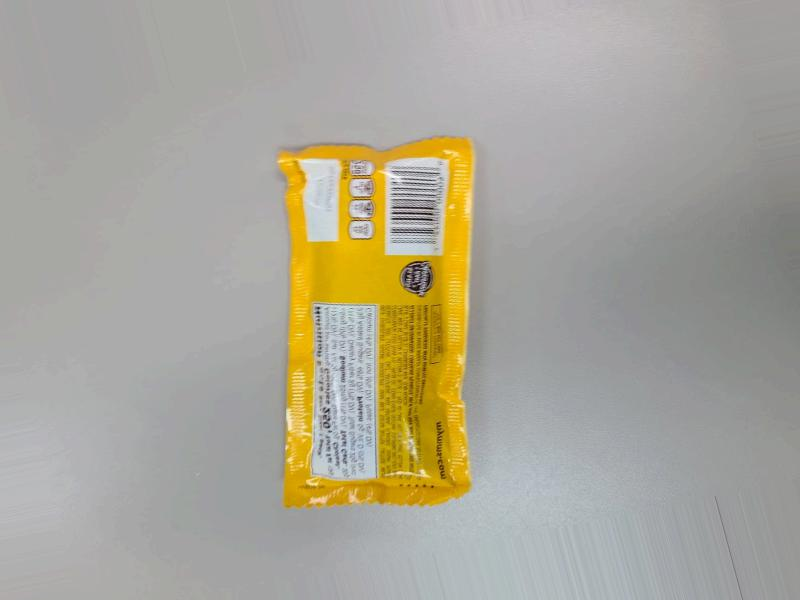m&m: (274, 106, 491, 517)
